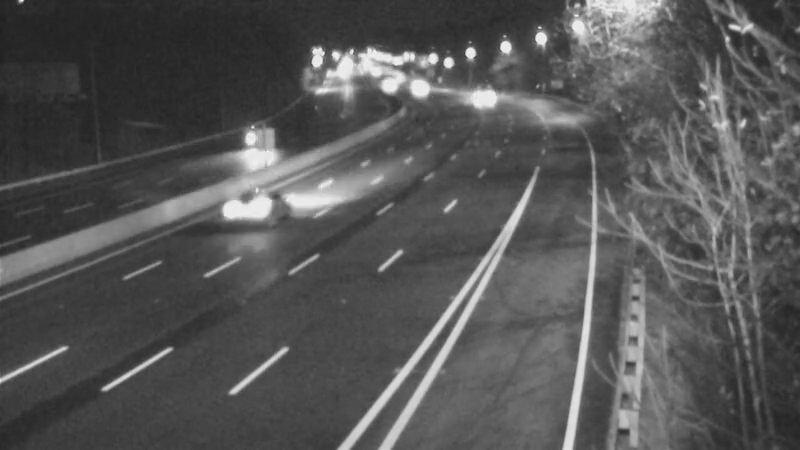vehicle: (219, 161, 299, 241), (362, 63, 412, 113), (391, 65, 441, 115), (452, 71, 502, 121), (223, 107, 273, 157)
